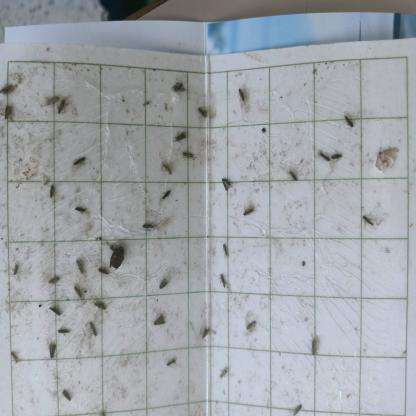prays_oleae: (370, 141, 399, 174), (234, 78, 255, 114), (163, 346, 183, 378), (240, 314, 257, 347), (306, 331, 322, 366), (137, 210, 161, 233), (172, 127, 192, 152), (148, 308, 166, 335), (344, 109, 359, 141), (93, 254, 111, 280), (82, 319, 102, 342), (360, 210, 377, 237), (157, 158, 177, 180), (235, 200, 258, 219), (55, 94, 67, 129), (8, 256, 23, 284), (286, 163, 304, 186), (68, 152, 88, 172), (317, 147, 333, 172), (55, 326, 74, 347), (69, 282, 87, 304), (194, 102, 212, 123), (0, 80, 17, 102), (74, 196, 91, 218), (214, 362, 231, 384), (46, 268, 64, 288), (9, 337, 20, 369), (93, 296, 110, 316), (46, 336, 59, 362), (74, 255, 89, 277), (58, 381, 73, 403), (170, 77, 187, 96), (216, 271, 230, 294), (200, 320, 212, 346), (330, 148, 344, 170), (154, 274, 173, 290), (42, 93, 59, 110), (220, 175, 234, 195), (47, 304, 65, 319), (161, 187, 173, 209), (221, 239, 232, 263), (2, 106, 16, 124), (182, 148, 194, 166), (290, 401, 306, 413), (48, 184, 56, 200)
